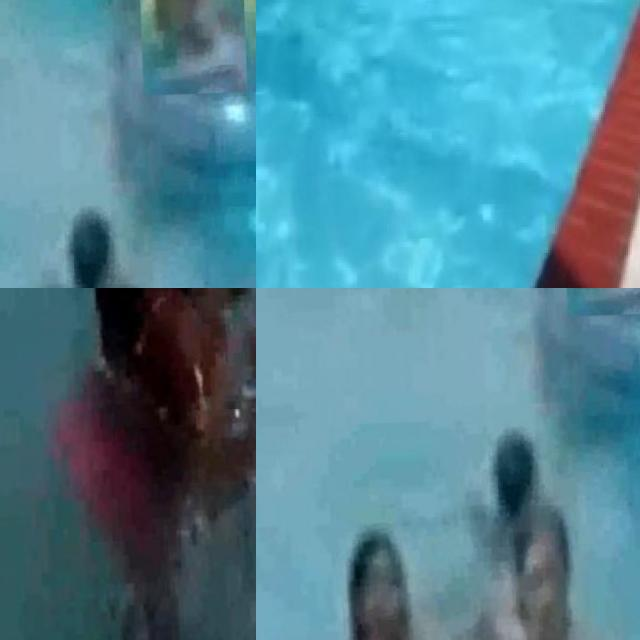drowning: (42, 288, 256, 574), (463, 413, 542, 528), (39, 192, 118, 288)
swimming: (136, 0, 246, 96), (333, 526, 422, 640), (508, 527, 577, 640), (424, 596, 504, 640)
